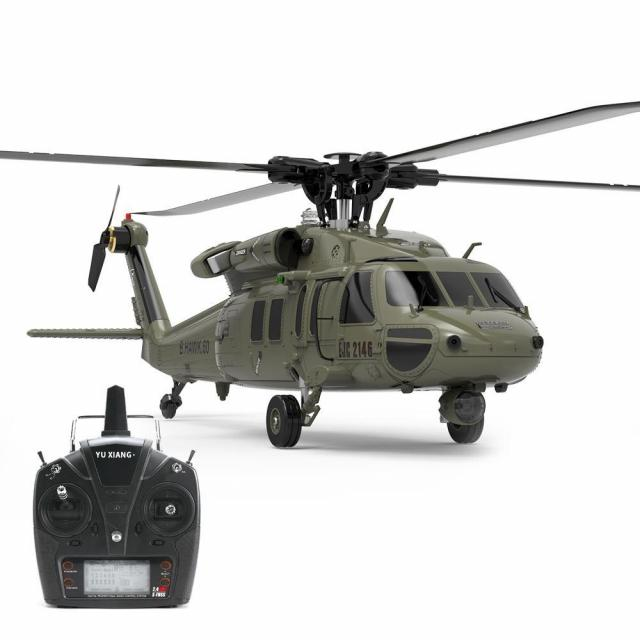MIL_HELO: (2, 93, 639, 457)
